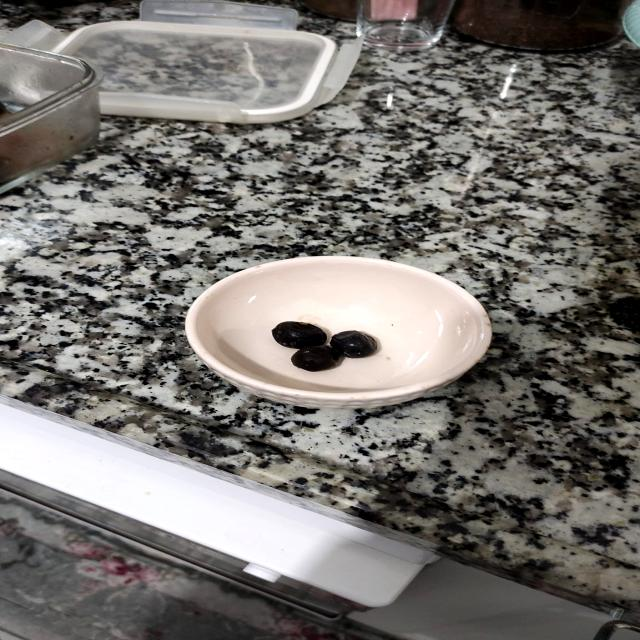olive: (261, 314, 327, 347), (288, 341, 349, 373), (329, 326, 388, 359)
